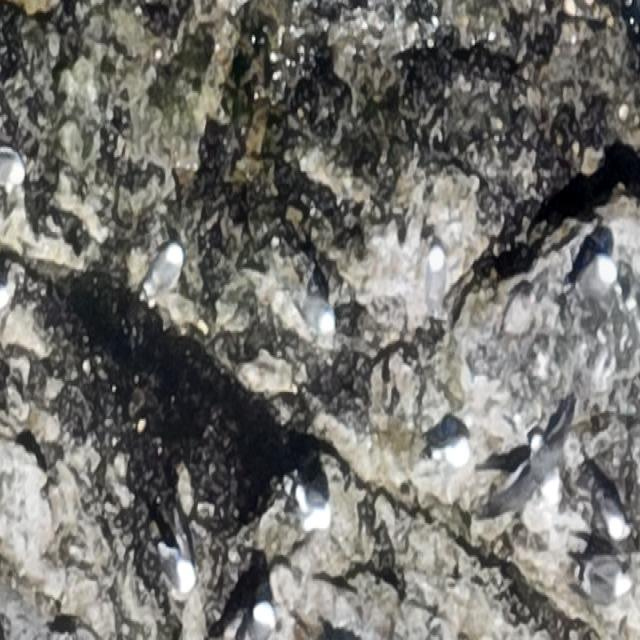F: (475, 403, 578, 523)
umineko: (593, 470, 629, 539), (577, 555, 632, 598), (570, 254, 619, 302), (160, 539, 195, 601), (292, 479, 332, 533), (298, 292, 337, 337), (428, 433, 472, 469), (148, 247, 182, 290), (424, 244, 444, 315), (1, 147, 29, 192), (249, 600, 274, 638)
